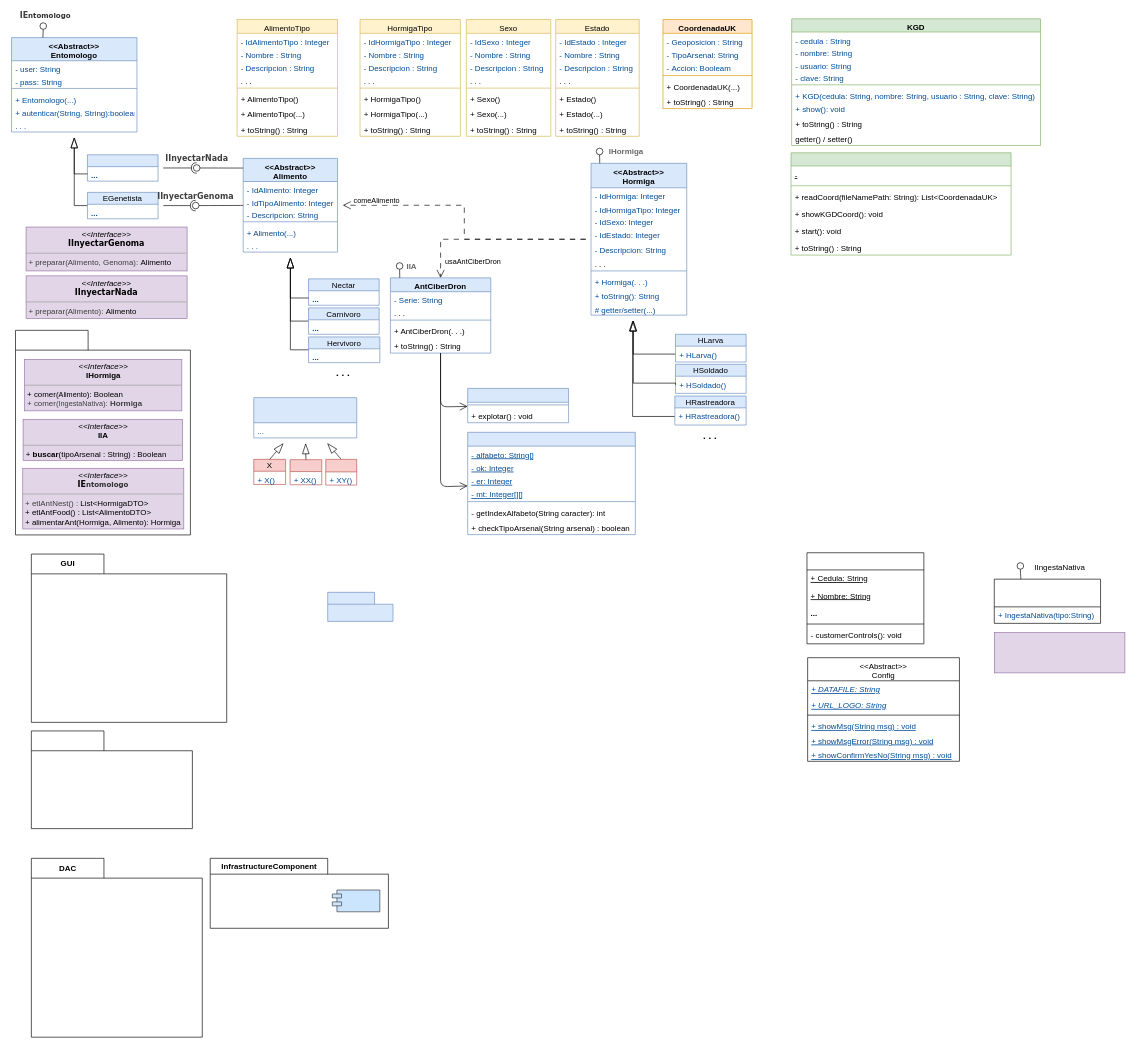
Image size: 1137x1049. Some labels were removed from this diagram. Here are the shapes that lost their labels. From the top down, the box of each, then its label:
(87, 154, 158, 181): EGeneral
(790, 152, 1011, 255): SistemaRuso
(253, 397, 357, 438): <<Abstract>> Genoma
(467, 388, 569, 423): BBA
(15, 330, 190, 535): Interfaces
(289, 459, 322, 485): XX
(325, 459, 357, 485): XY
(467, 432, 635, 535): Automata
(327, 592, 393, 621): Resource
(806, 552, 924, 644): FEcuAntApp
(994, 578, 1101, 623): <<Abstract>> IngestaNativa
(994, 632, 1125, 673): <<Interface>> IIngestaNativa + inyectar( GenoAlimento ): boolean
(31, 730, 192, 829): BL
(332, 889, 380, 912): Tools
